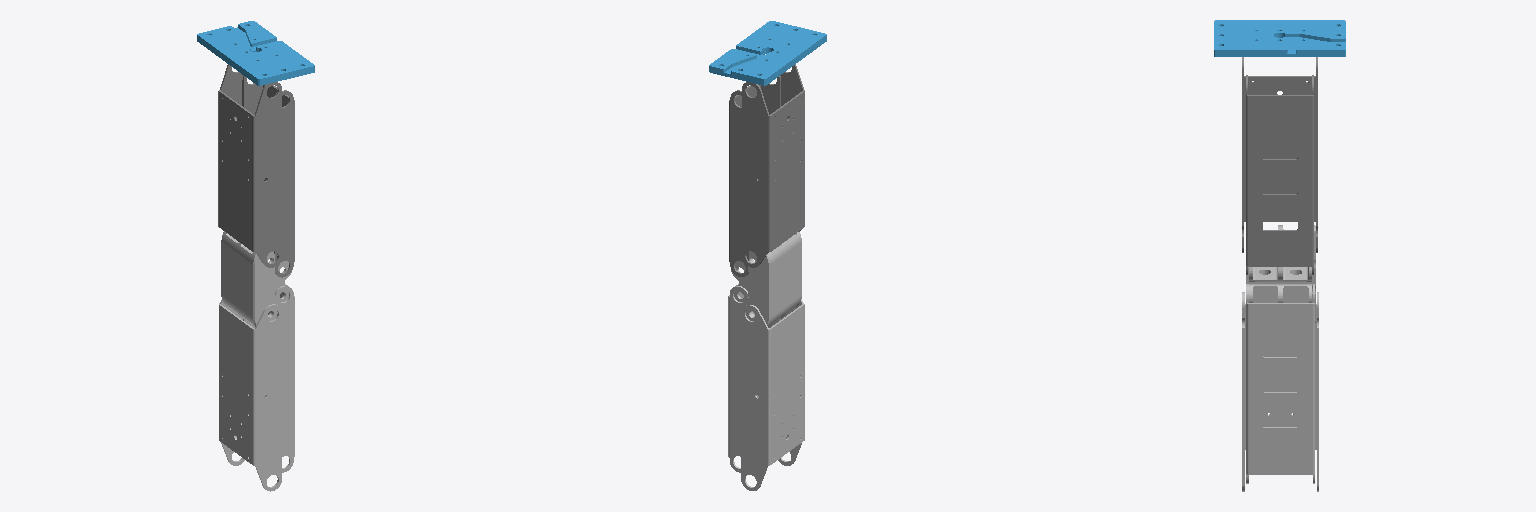
robot.urdf — AeroLowerRobot:
<?xml version="1.0"?>
<robot name="AeroLowerRobot"
       xmlns:xi="http://www.w3.org/2001/XInclude"
       xmlns:gazebo="http://playerstage.sourceforge.net/gazebo/xmlschema/#gz"
       xmlns:model="http://playerstage.sourceforge.net/gazebo/xmlschema/#model"
       xmlns:sensor="http://playerstage.sourceforge.net/gazebo/xmlschema/#sensor"
       xmlns:body="http://playerstage.sourceforge.net/gazebo/xmlschema/#body"
       xmlns:geom="http://playerstage.sourceforge.net/gazebo/xmlschema/#geom"
       xmlns:joint="http://playerstage.sourceforge.net/gazebo/xmlschema/#joint"
       xmlns:interface="http://playerstage.sourceforge.net/gazebo/xmlschema/#interface"
       xmlns:rendering="http://playerstage.sourceforge.net/gazebo/xmlschema/#rendering"
       xmlns:renderable="http://playerstage.sourceforge.net/gazebo/xmlschema/#renderable"
       xmlns:controller="http://playerstage.sourceforge.net/gazebo/xmlschema/#controller"
       xmlns:physics="http://playerstage.sourceforge.net/gazebo/xmlschema/#physics">
  <link name="WAIST_LINK0">
    <visual>
      <origin xyz="0 0 0.7235" rpy="0 -0 0"/>
      <geometry>
        <mesh filename="package://aero_description/models/aero-lower_meshes/WAIST_LINK0_mesh.dae" scale="1 1 1" />
      </geometry>
    </visual>
    <collision>
      <origin xyz="0 0 0.7235" rpy="0 -0 0"/>
      <geometry>
        <mesh filename="package://aero_description/models/aero-lower_meshes/WAIST_LINK0_mesh.dae" scale="1 1 1" />
      </geometry>
    </collision>
    <inertial>
      <mass value="0" />
      <origin xyz="0 0 0" rpy="0 -0 0"/>
      <inertia ixx="0" ixy="0" ixz="0" iyy="0" iyz="0" izz="0"/>
    </inertial>
  </link>
  <gazebo reference="WAIST_LINK0">
    <mu1>0.9</mu1>
    <mu2>0.9</mu2>
  </gazebo>
  <link name="WAIST_LINK1">
    <visual>
      <origin xyz="0 0 -0.01" rpy="0 -0 0"/>
      <geometry>
        <mesh filename="package://aero_description/models/aero_arm_meshes/CRT_arm_base_plate.stl" scale="0.001 0.001 0.001"/>
      </geometry>
    </visual>
      <material name="Assy_WAIST_LINK1_color">
        <color rgba="0.74902 0.74902 0.74902 1.0"/>
      </material>
    <collision>
      <origin xyz="0 0 -0.01" rpy="0 -0 0"/>
      <geometry>
        <mesh filename="package://aero_description/models/aero_arm_meshes/CRT_arm_base_plate.stl" scale="0.001 0.001 0.001"/>
      </geometry>
    </collision>
    <inertial>
      <mass value="7.64604" />
      <origin xyz="-0.012819 -0.002679 0.007207" rpy="0 -0 0"/>
      <inertia ixx="0.0658136" ixy="-0.000159462" ixz="0.010103" iyy="0.0504268" iyz="0.000173435" izz="0.0889772"/>
    </inertial>
  </link>
  <gazebo reference="WAIST_LINK1">
    <mu1>0.9</mu1>
    <mu2>0.9</mu2>
  </gazebo>
  <link name="LEG_LINK1">
    <visual>
      <origin xyz="0.0 0.0 -0.243" rpy="0 -0 0"/>
      <geometry>
        <mesh filename="package://aero_description/models/aero_arm_meshes/Lifter_thigh.stl" scale="0.001 0.001 0.001"/>
      </geometry>
      <material name="Assy_LEG_LINK1_color">
        <color rgba="0.6 0.6 0.6 1.0"/>
      </material>
    </visual>
    <collision>
      <origin xyz="0.0 0.0 -0.243" rpy="0 -0 0"/>
      <geometry>
       <mesh filename="package://aero_description/models/aero_arm_meshes/Lifter_thigh.stl" scale="0.001 0.001 0.001"/>
      </geometry>
    </collision>
    <inertial>
      <mass value="2.62321" />
      <origin xyz="0.0587169 0 -0.135292" rpy="0 -0 0"/>
      <inertia ixx="0.0161595" ixy="-9.27234e-05" ixz="0.00262839" iyy="0.0166415" iyz="-0.00017447" izz="0.00477281"/>
    </inertial>
  </link>
  <gazebo reference="LEG_LINK1">
    <mu1>0.9</mu1>
    <mu2>0.9</mu2>
  </gazebo>
  <link name="LEG_LINK2">
    <visual>
      <origin xyz="-0.0212 0.0 0.04" rpy="0 -0 0"/>
      <geometry>
       <mesh filename="package://aero_description/models/aero_arm_meshes/Lifter_foreleg.stl" scale="0.001 0.001 0.001"/>
      </geometry>
      <material name="Assy_LEG_LINK2_color">
        <color rgba="0.8 0.8 0.8 1.0"/>
      </material>
    </visual>
    <collision>
      <origin xyz="-0.0212 0.0 0.045" rpy="0 -0 0"/>
      <geometry>
       <mesh filename="package://aero_description/models/aero_arm_meshes/Lifter_foreleg.stl" scale="0.001 0.001 0.001"/>
      </geometry>
    </collision>
    <inertial>
      <mass value="2.06679" />
      <origin xyz="0.081713 0.000812 -0.146934" rpy="0 -0 0"/>
      <inertia ixx="0.0408818" ixy="-9.39301e-06" ixz="-0.000750165" iyy="0.0403969" iyz="-0.000120419" izz="0.00260982"/>
    </inertial>
  </link>
  <gazebo reference="LEG_LINK2">
    <mu1>0.9</mu1>
    <mu2>0.9</mu2>
  </gazebo>

  <joint name="WAIST_Y" type="continuous">
    <parent link="WAIST_LINK0"/>
    <child  link="WAIST_LINK1"/>
    <origin xyz="0 0 0" rpy="0 -0 0 "/>
    <axis   xyz="0 0 1"/>
    <limit lower="-3.14159" upper="3.14159" effort="100" velocity="0.5" />
    <dynamics damping="0.2" friction="0" />
  </joint>
  <transmission type="pr2_mechanism_model/SimpleTransmission" name="WAIST_Y_trans" >
    <actuator name="WAIST_Y_motor" />
    <joint name="WAIST_Y" />
    <mechanicalReduction>1</mechanicalReduction>
  </transmission>
  <gazebo reference="WAIST_Y">
    <cfmDamping>0.4</cfmDamping>
  </gazebo>
  <joint name="LEG_HIP" type="revolute">
    <parent link="WAIST_LINK1"/>
    <child  link="LEG_LINK1"/>
    <origin xyz="0.0 0.0 -0.05" rpy="0 -0 0 "/>
    <axis   xyz="0 1 0"/>
    <limit lower="0" upper="1.5708" effort="100" velocity="0.5" />
    <dynamics damping="0.2" friction="0" />
  </joint>
  <transmission type="pr2_mechanism_model/SimpleTransmission" name="LEG_HIP_trans" >
    <actuator name="LEG_HIP_motor" />
    <joint name="LEG_HIP" />
    <mechanicalReduction>1</mechanicalReduction>
  </transmission>
  <gazebo reference="LEG_HIP">
    <cfmDamping>0.4</cfmDamping>
  </gazebo>
  <joint name="LEG_KNEE" type="revolute">
    <parent link="LEG_LINK1"/>
    <child  link="LEG_LINK2"/>
    <origin xyz="0.0212 0.0 -0.29" rpy="0 -0 0 "/>
    <axis   xyz="0 -1 0"/>
    <limit lower="0" upper="1.5708" effort="100" velocity="0.5" />
    <dynamics damping="0.2" friction="0" />
  </joint>
  <transmission type="pr2_mechanism_model/SimpleTransmission" name="LEG_KNEE_trans" >
    <actuator name="LEG_KNEE_motor" />
    <joint name="LEG_KNEE" />
    <mechanicalReduction>1</mechanicalReduction>
  </transmission>
  <gazebo reference="LEG_KNEE">
    <cfmDamping>0.4</cfmDamping>
  </gazebo>

</robot>

--- What the picture shows (computed from the rendered views, not written in the file) ---
Views: 3 orthographic renders of the robot side by side, from view 1: azimuth 30°, elevation 25°; view 2: azimuth 150°, elevation 25°; view 3: azimuth 270°, elevation 25°.
Robot: AeroLowerRobot — 4 links, 3 joints (2 revolute, 1 continuous); root link WAIST_LINK0; default pose: every joint at zero.
Visible links, largest first — view 1: LEG_LINK2, LEG_LINK1, WAIST_LINK1; view 2: LEG_LINK2, LEG_LINK1, WAIST_LINK1; view 3: LEG_LINK2, LEG_LINK1, WAIST_LINK1.
Link boxes in pixels (x1,y1,x2,y2): LEG_LINK2: (219,231,294,491); LEG_LINK1: (218,64,294,277); WAIST_LINK1: (197,21,314,85); LEG_LINK2: (728,232,804,490); LEG_LINK1: (729,64,804,276); WAIST_LINK1: (709,21,826,85); LEG_LINK2: (1242,225,1318,491); LEG_LINK1: (1242,57,1317,274); WAIST_LINK1: (1214,20,1345,56).
Size in the robot's own frame: 0.09 by 0.17 by 0.645 metres.
Meshes: 4 distinct files referenced, 3 mesh visuals loaded (3 binary STL); not drawn: 1 (reference not matched to a file when rendering).